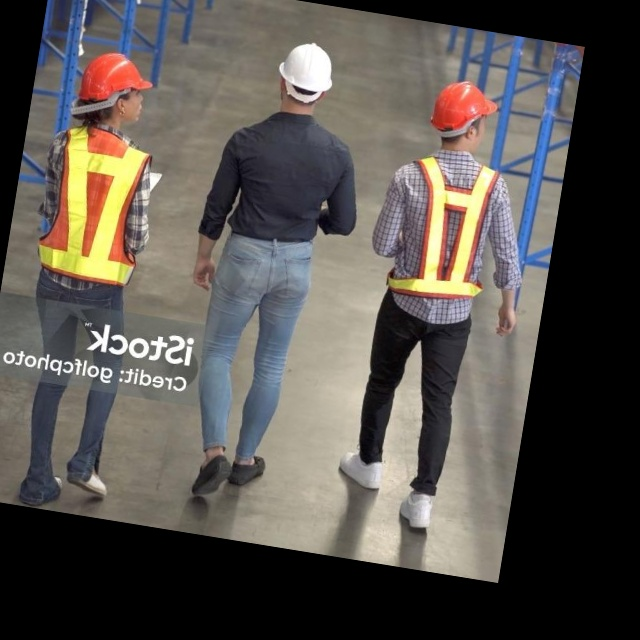Con_Casco: (73, 49, 156, 136), (423, 73, 501, 156), (269, 36, 337, 121)
Con_Chaleco: (24, 118, 168, 291), (378, 148, 507, 307)
Sin_Chaleco: (212, 107, 353, 253)
